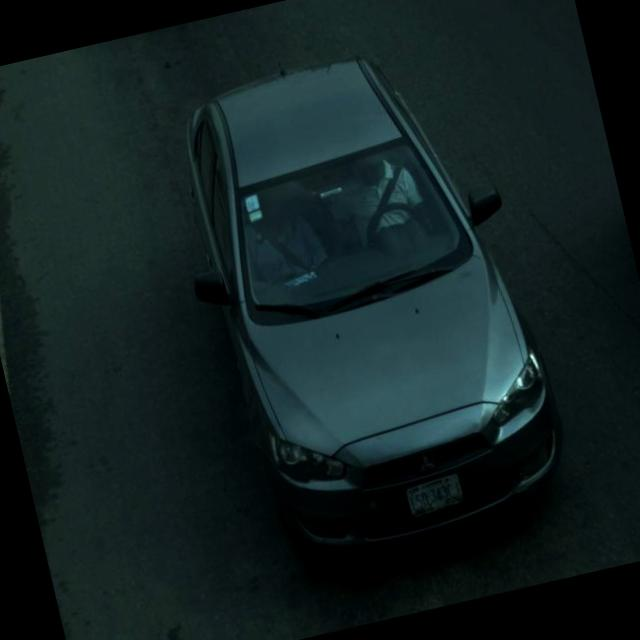person_with_seatbelt: (331, 142, 434, 265)
